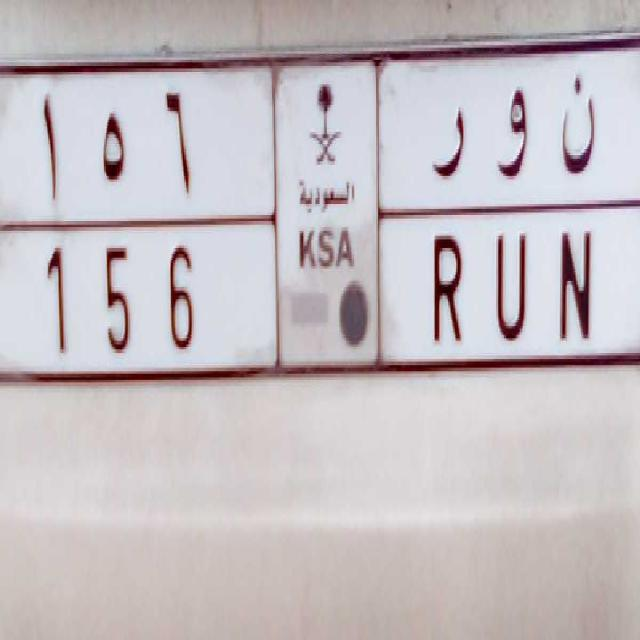license_plate: (28, 210, 616, 388)
